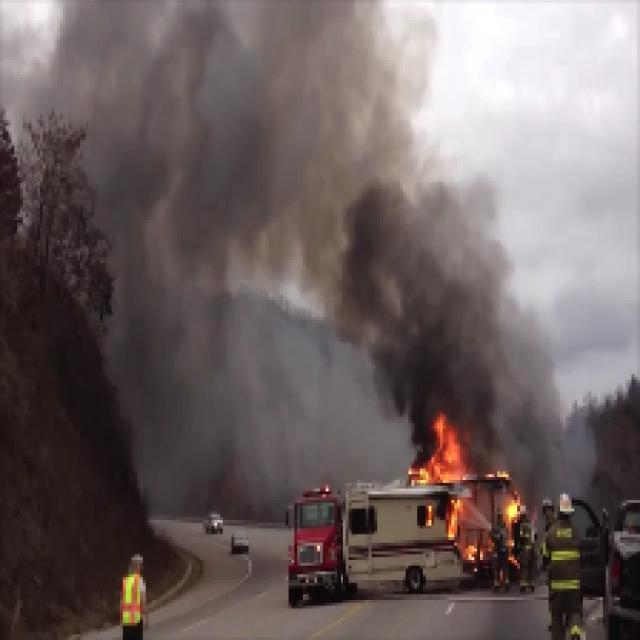Fire: (414, 418, 472, 492)
Smoke: (68, 2, 426, 286), (383, 297, 554, 415)
